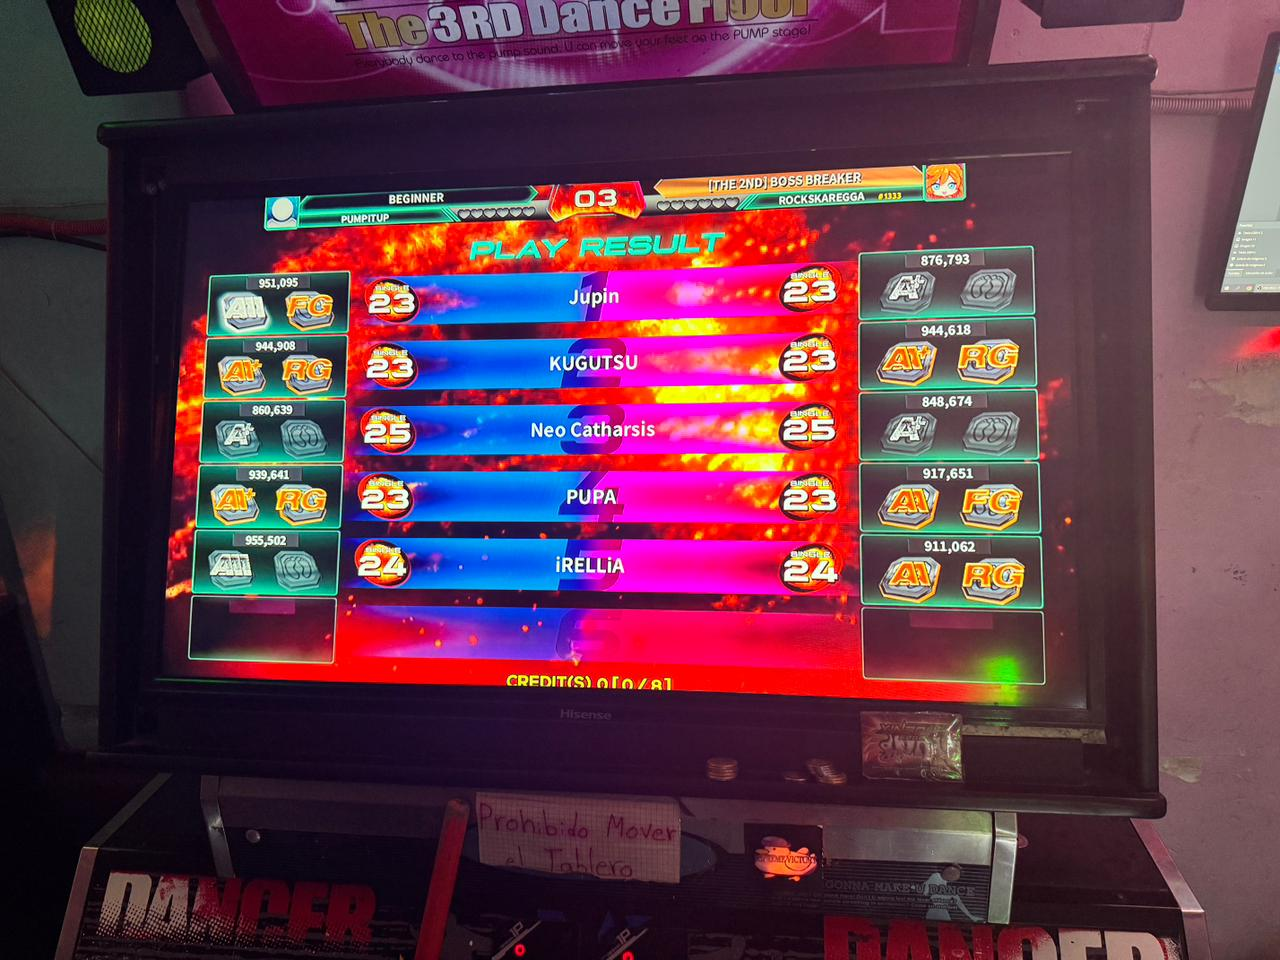fullscore: (170, 146, 1099, 731)
